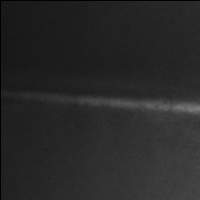scratches: (28, 91, 200, 117)
